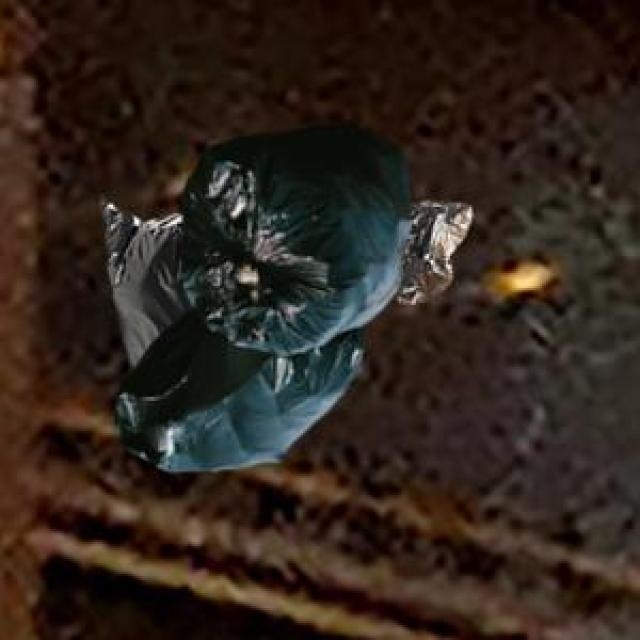waste: (106, 126, 472, 471)
